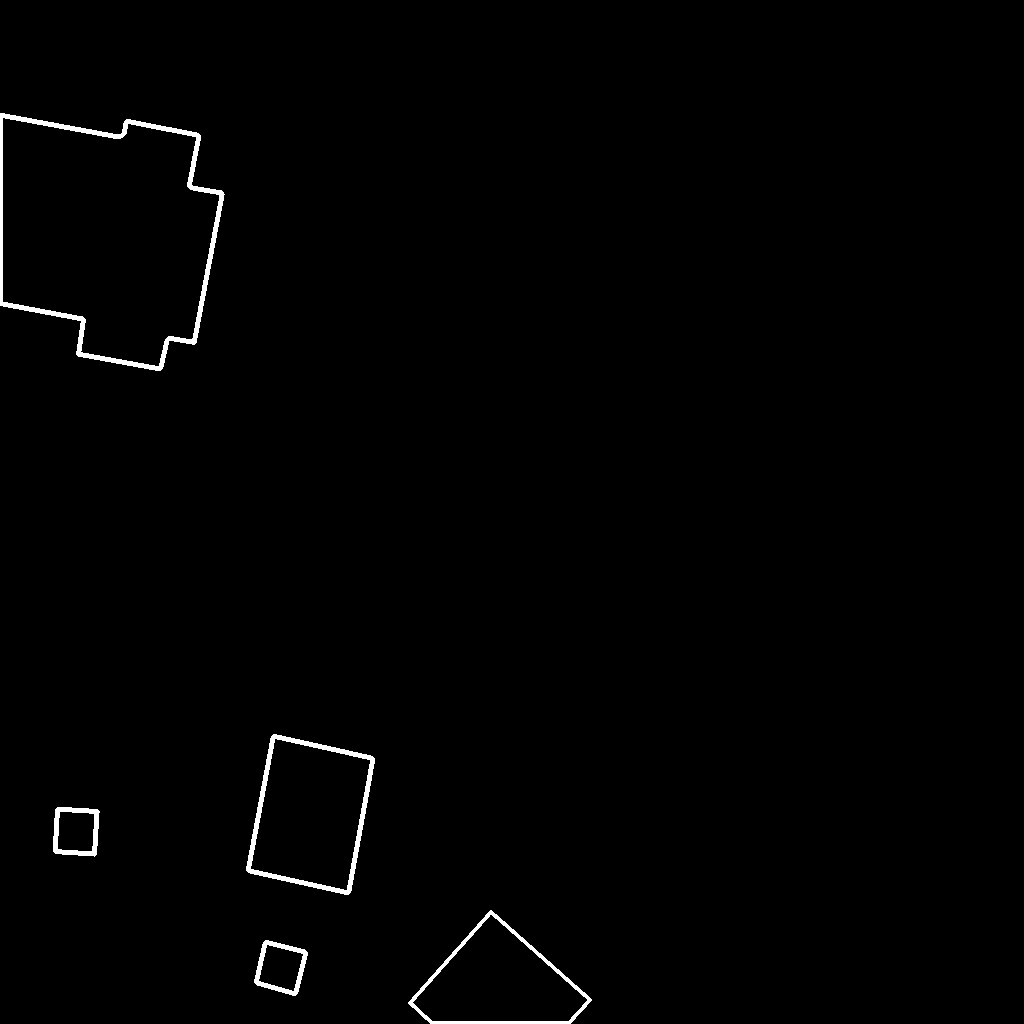building: (0, 115, 223, 370), (410, 912, 591, 1024), (248, 736, 374, 894), (256, 942, 307, 995), (55, 809, 98, 855)
